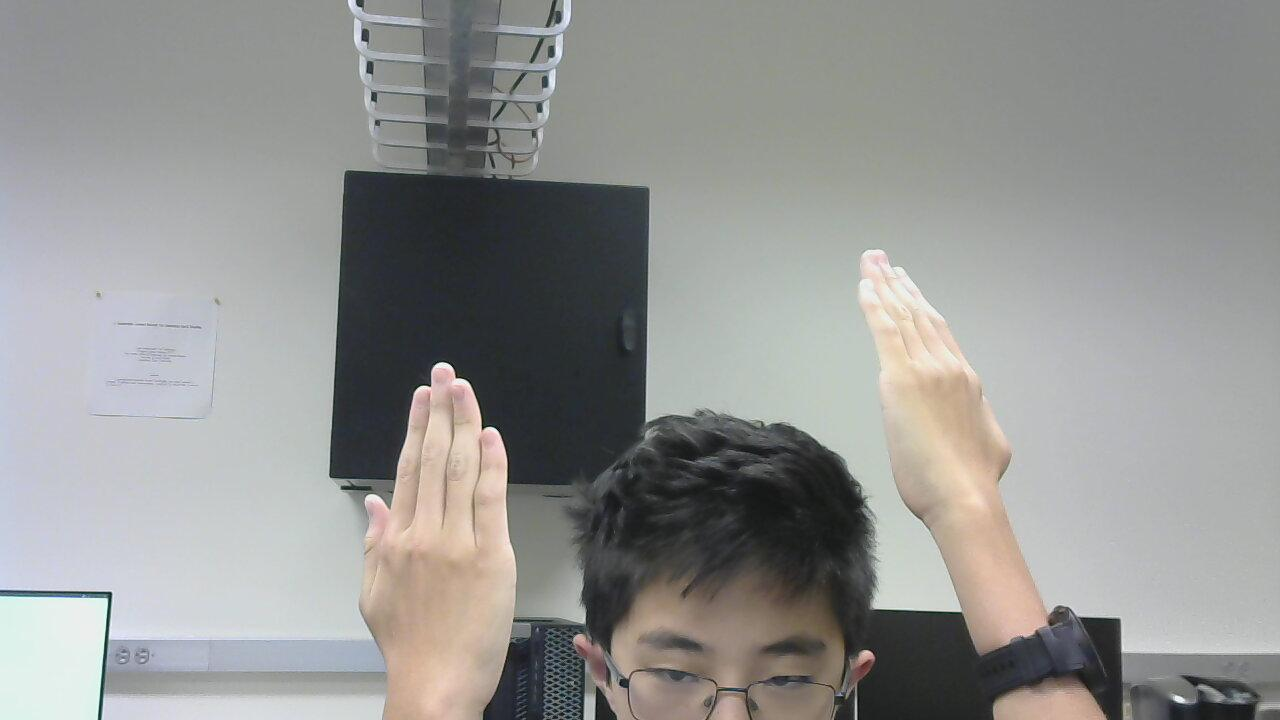hands: (349, 357, 530, 703), (855, 243, 1035, 522)
